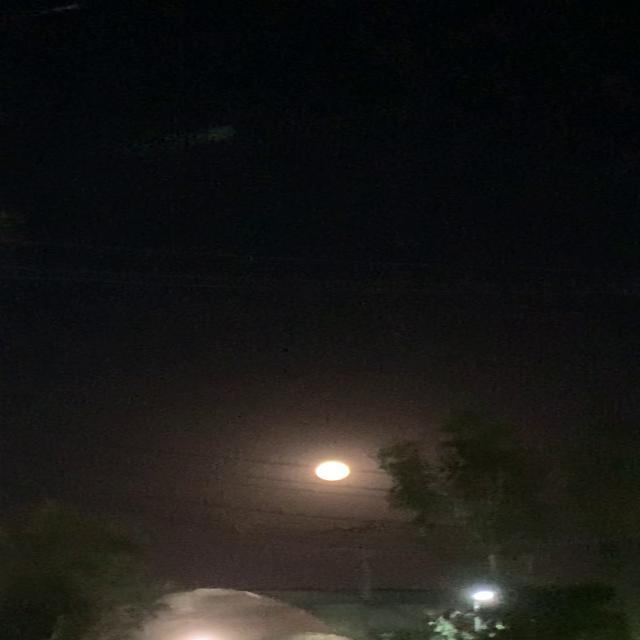moon: (304, 460, 358, 486)
